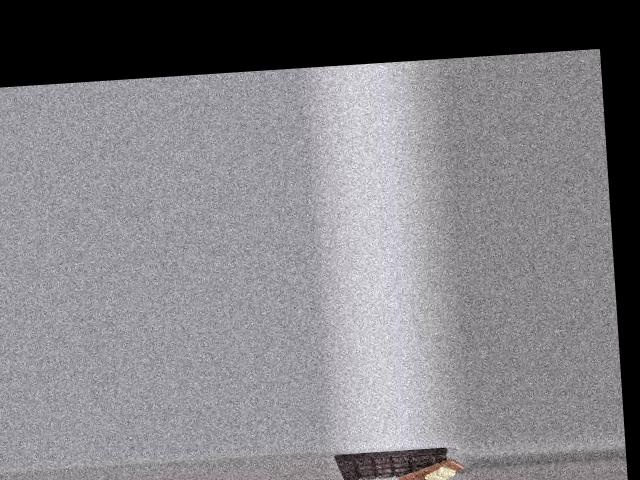chocolate: (333, 443, 455, 480)
